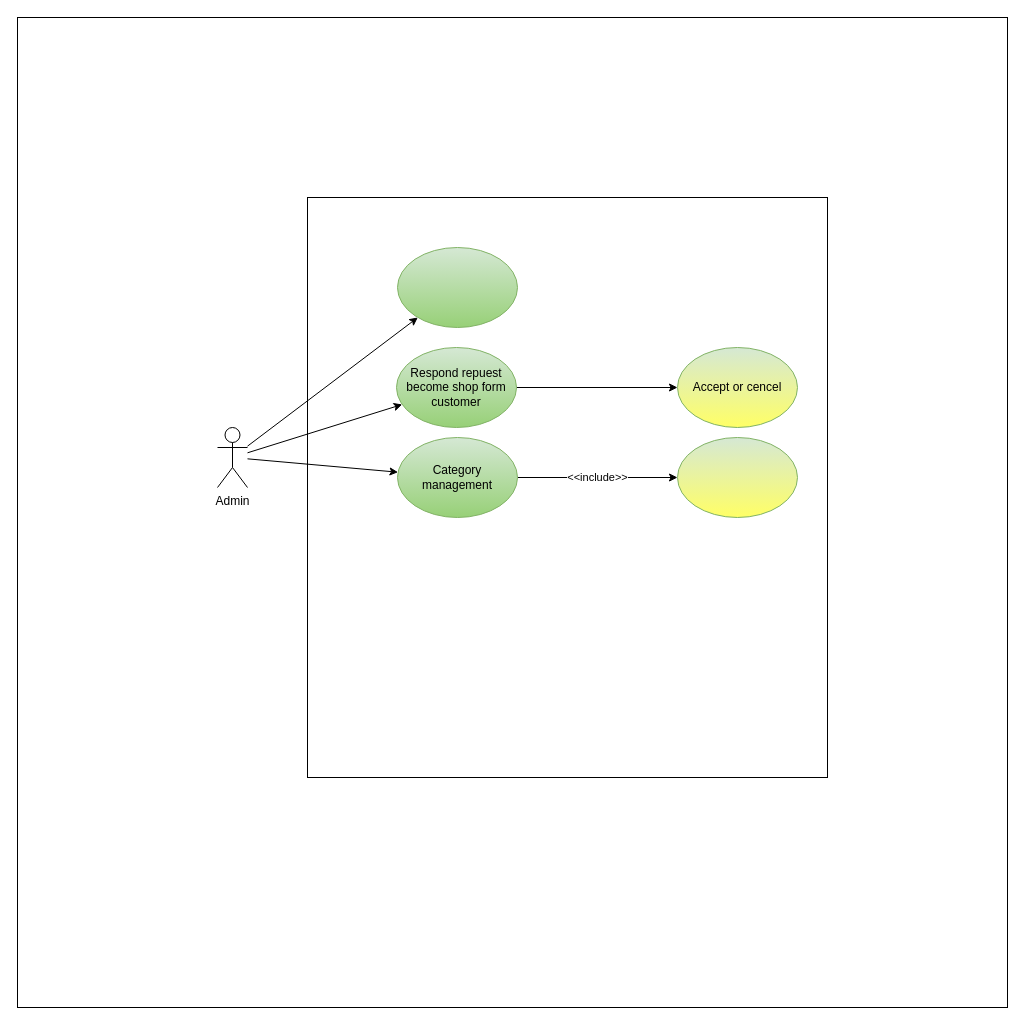
Some shapes in this 1025 by 1025 pixel diagram are drawn without their labels. Each missing label, with the box of its shape:
CRUD categories: (676, 436, 798, 518)
Login: (396, 246, 518, 328)
